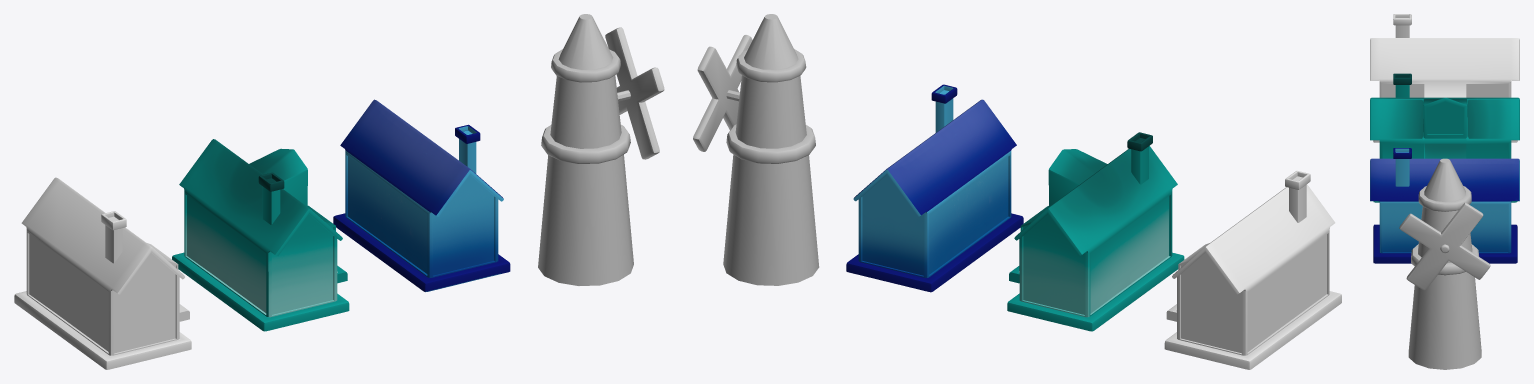
File: casa1.fbx
The picture shows the model from 3 angles, left to right: view 1: azimuth 30°, elevation 25°; view 2: azimuth 150°, elevation 25°; view 3: azimuth 270°, elevation 25°; orthographic projection. The views are drawn at different scales.
Visible parts, largest first — view 1: casa3, Molino, casa1, casa2; view 2: casa3, Molino, casa1, casa2; view 3: Molino, casa1, casa3, casa2.
Part boxes in pixels (x1,y1,x2,y2): casa3: [172, 139, 349, 331]; Molino: [538, 14, 664, 285]; casa1: [333, 99, 510, 292]; casa2: [14, 177, 191, 369]; casa3: [1007, 132, 1184, 331]; Molino: [693, 14, 819, 285]; casa1: [846, 84, 1023, 292]; casa2: [1164, 171, 1341, 369]; Molino: [1399, 158, 1490, 369]; casa1: [1370, 148, 1519, 263]; casa3: [1370, 73, 1519, 202]; casa2: [1370, 14, 1519, 142].
Size of the model in its own units: 205 by 84.02 by 59.03.
